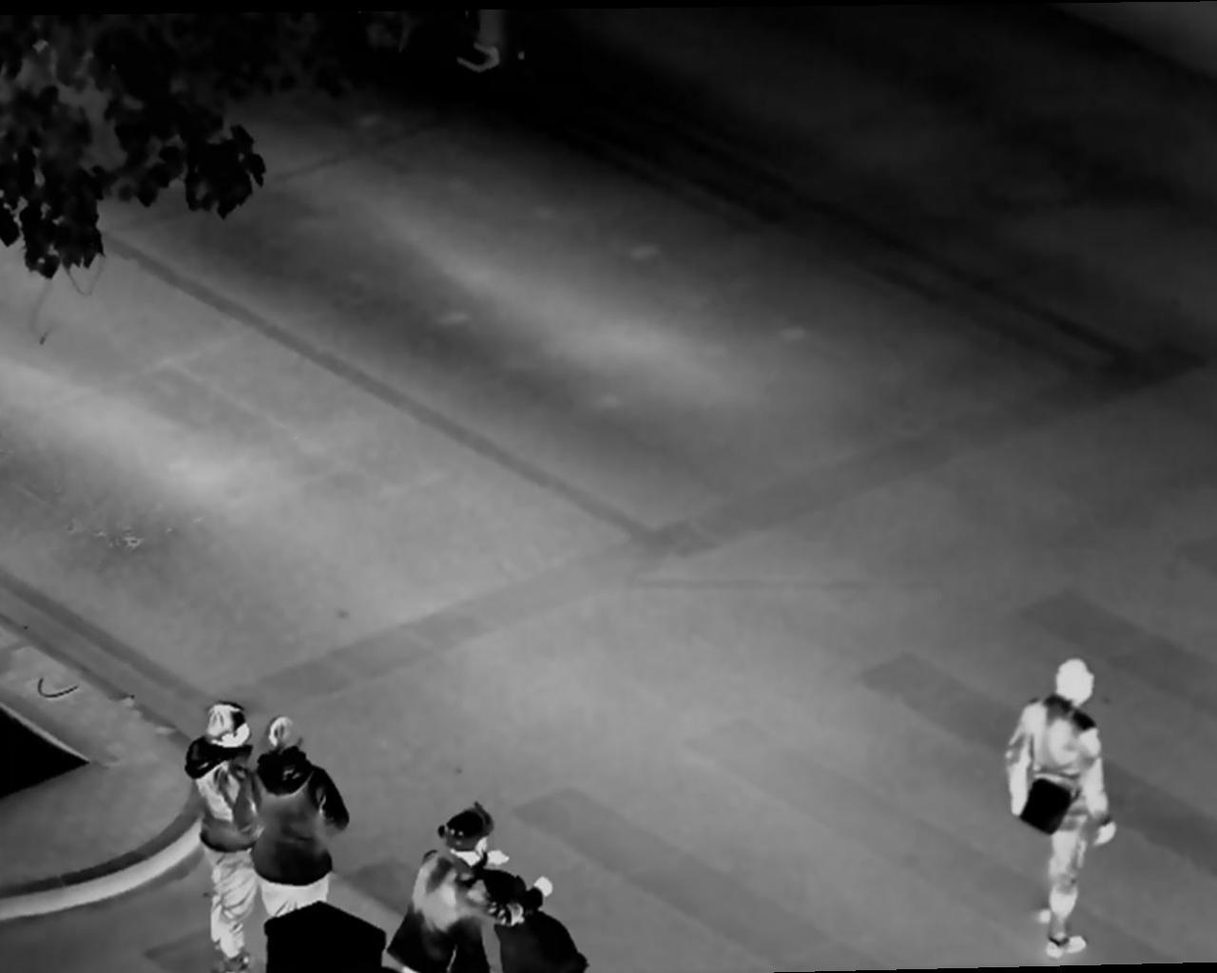person: (1004, 646, 1128, 953), (184, 694, 273, 973), (394, 808, 528, 973), (253, 723, 354, 938)
